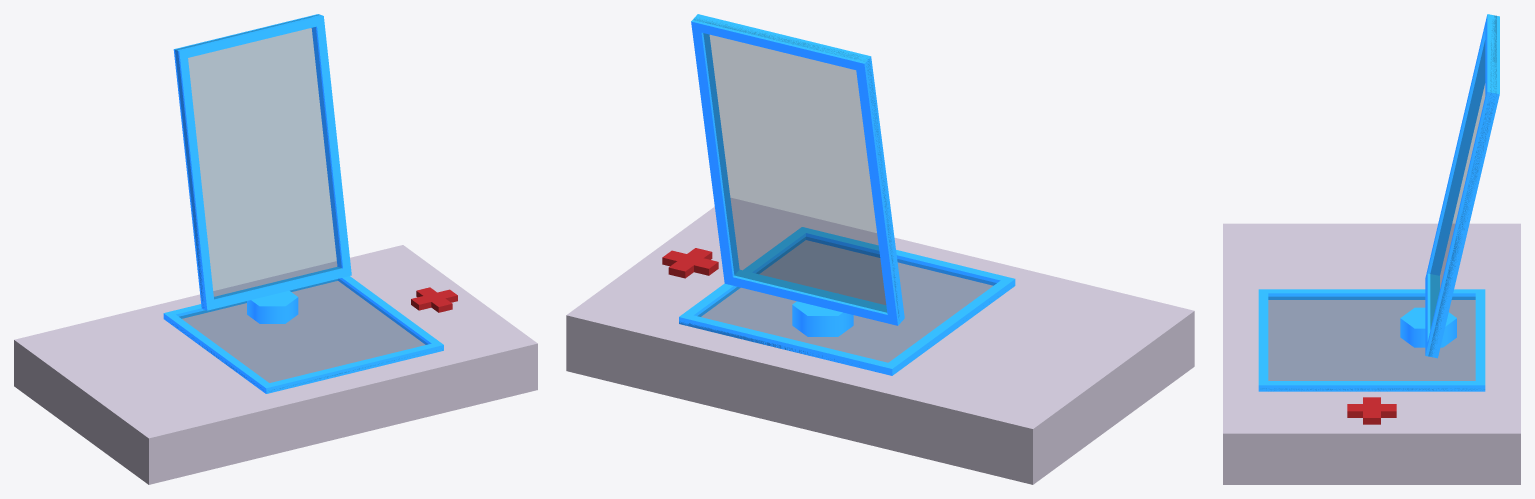
File: holo_diag.lod1.glb
3 views of the same model, side by side, from view 1: azimuth 30°, elevation 25°; view 2: azimuth 150°, elevation 25°; view 3: azimuth 270°, elevation 25° (orthographic). The views are drawn at different scales.
Visible parts, largest first — view 1: item.holo_diag.body; view 2: item.holo_diag.body; view 3: item.holo_diag.body.
Part boxes in pixels (<box>): item.holo_diag.body: <box>14,14,537,484</box>; item.holo_diag.body: <box>566,14,1194,484</box>; item.holo_diag.body: <box>1223,14,1520,484</box>.
Bounding box in the file's own units: 0.4375 × 0.3327 × 0.2625.
